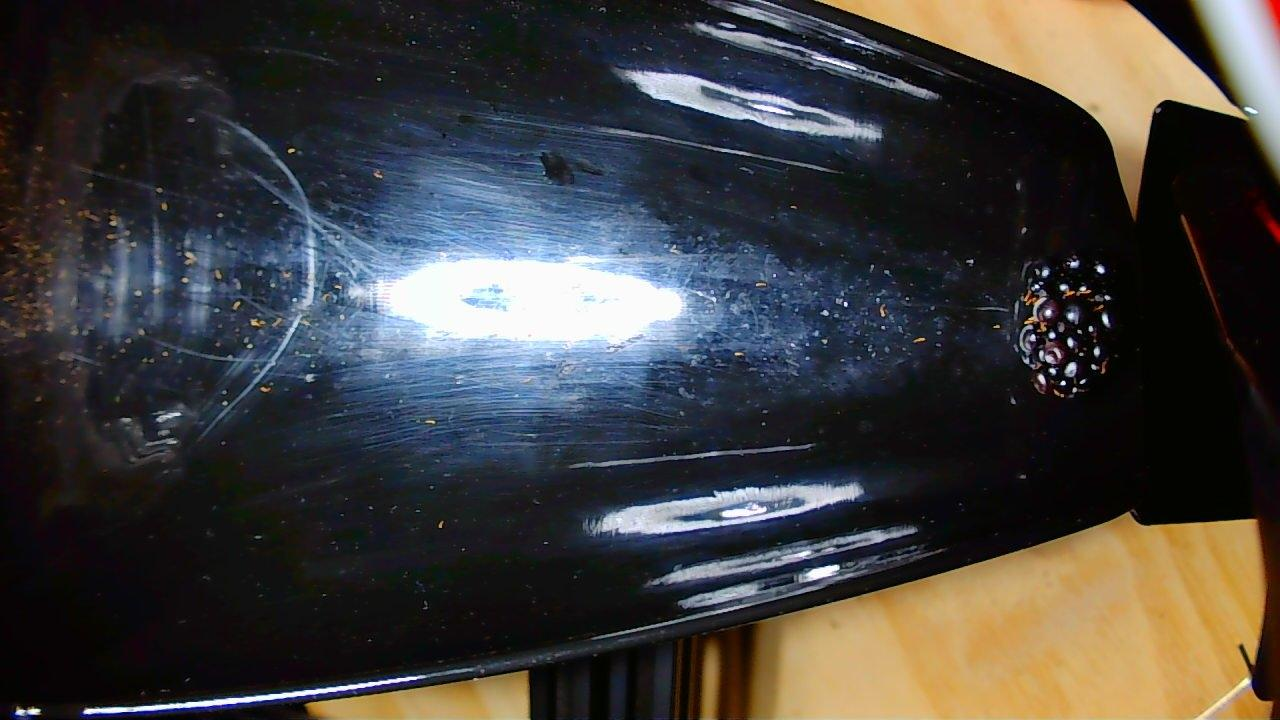berry: (1010, 255, 1112, 397)
